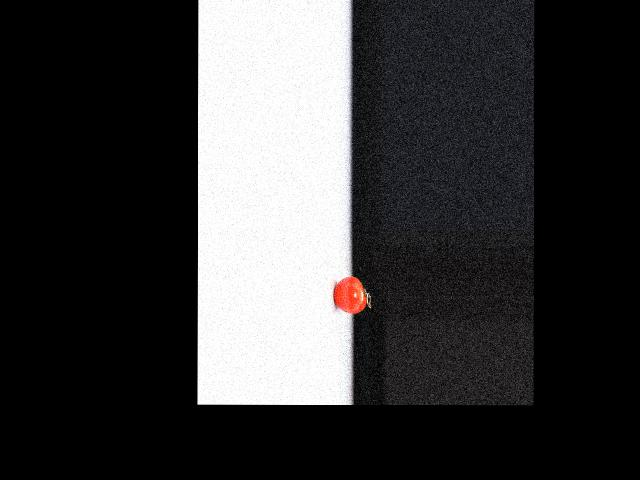tomato: (333, 275, 366, 313)
